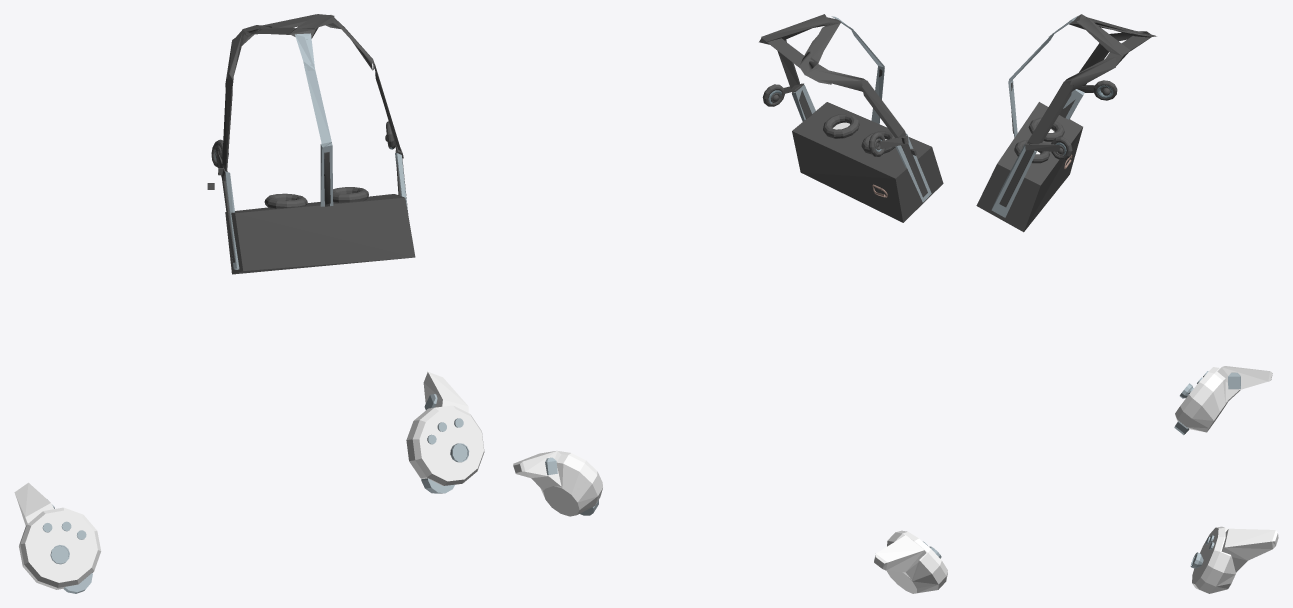
The model's file is OculusRift-animTest.gltf.
The picture shows the model from 3 angles, left to right: view 1: azimuth 30°, elevation 25°; view 2: azimuth 150°, elevation 25°; view 3: azimuth 270°, elevation 25°; orthographic projection. The views are drawn at different scales.
Parts seen in each view (by area): view 1: OculusRift, ControllerRight, ControllerLeft; view 2: OculusRift, ControllerLeft, ControllerRight; view 3: OculusRift, ControllerLeft, ControllerRight.
Boxes of the visible parts, box(x1,y1,x2,y2) form: OculusRift: box(207, 14, 415, 274); ControllerRight: box(14, 482, 101, 593); ControllerLeft: box(406, 372, 484, 493); OculusRift: box(759, 14, 943, 222); ControllerLeft: box(513, 450, 602, 516); ControllerRight: box(874, 530, 947, 593); OculusRift: box(976, 14, 1156, 232); ControllerLeft: box(1190, 526, 1278, 593); ControllerRight: box(1174, 366, 1272, 434).
Size of the model in its own units: 1.11 by 1.31 by 0.739.
